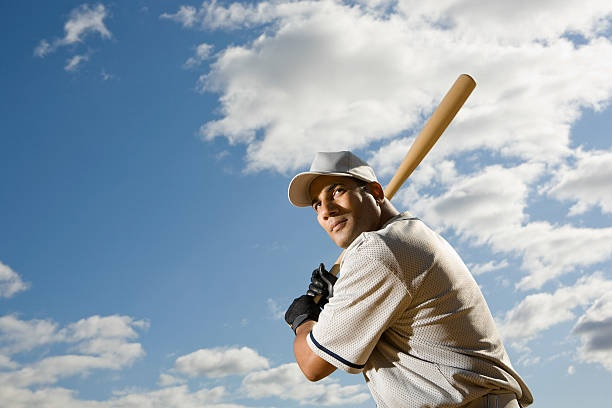bita: (382, 71, 475, 197)
